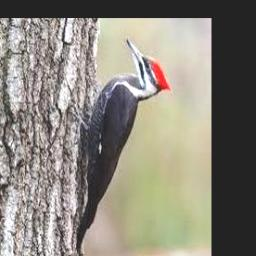Woodpecker: (72, 37, 172, 256)
